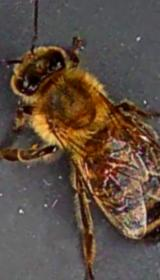varroa_mite: (91, 156, 117, 180)
